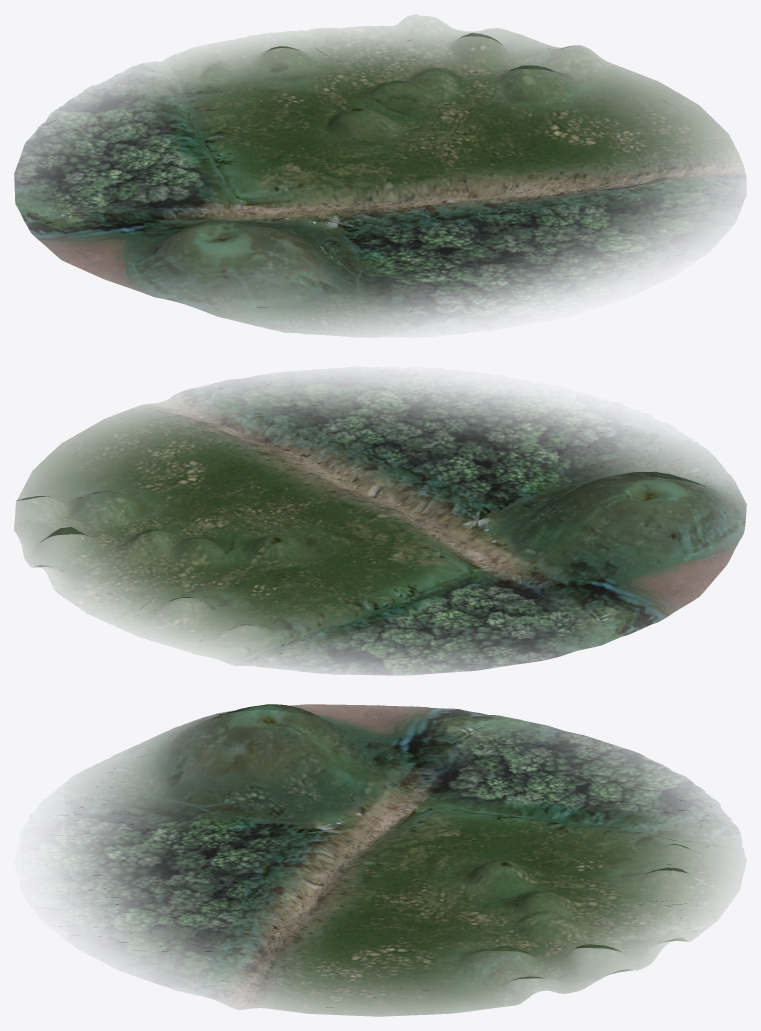
3 renders of one model, top to bottom at view 1: azimuth 30°, elevation 25°; view 2: azimuth 150°, elevation 25°; view 3: azimuth 270°, elevation 25°, orthographic.
Parts seen in each view (by area): view 1: Plane.001; view 2: Plane.001; view 3: Plane.001.
Boxes of the visible parts, <box> form: Plane.001: <box>14,15,746,336</box>; Plane.001: <box>14,372,746,675</box>; Plane.001: <box>44,704,743,1016</box>.
Bounding box in the file's own units: 21.29 × 1.59 × 21.27.
1 material, 1 textured.
